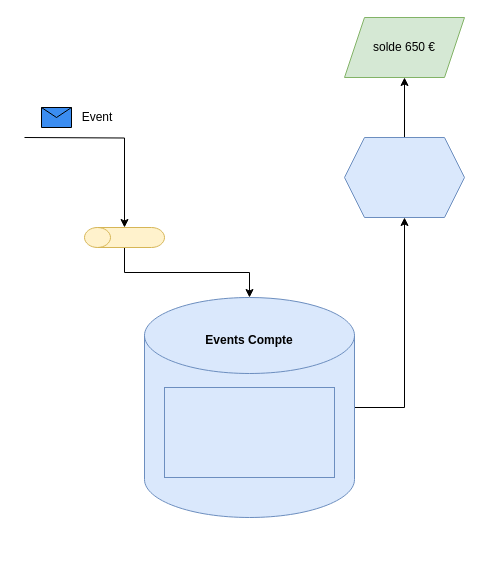
The diagram is 482 pixels wide and 565 high, and some of its shapes have lost their labels. The centre of each missing label's shape, as x and y in pixels:
"App" goes at pixel 404 177.
"Overture compte Dépot 1000 € Retrait 250 € Retrait 100 €" goes at pixel 249 432.
